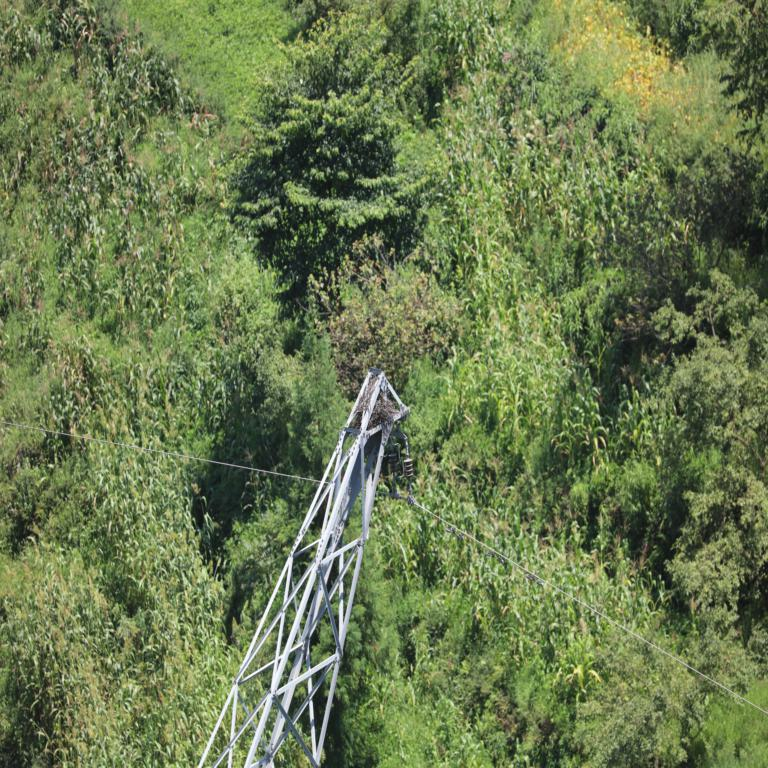nest: (358, 390, 406, 437)
